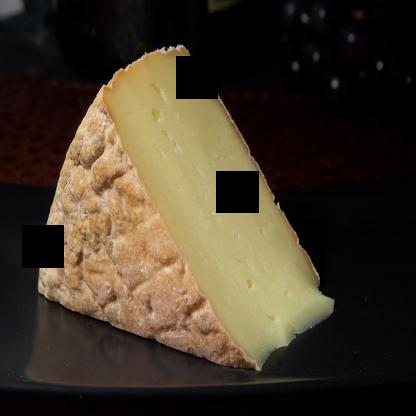parmesan cheese: (42, 44, 330, 370)
